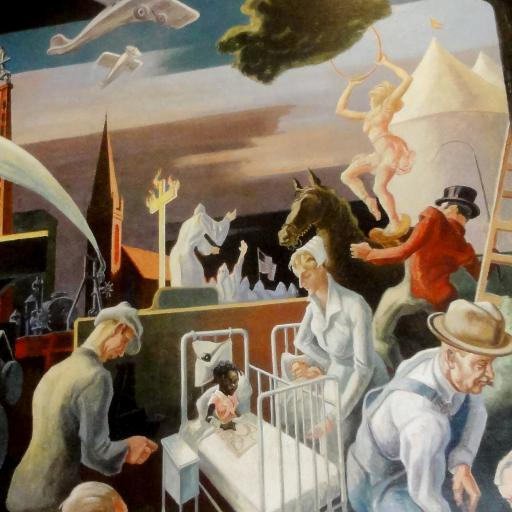horse: (278, 164, 448, 360)
